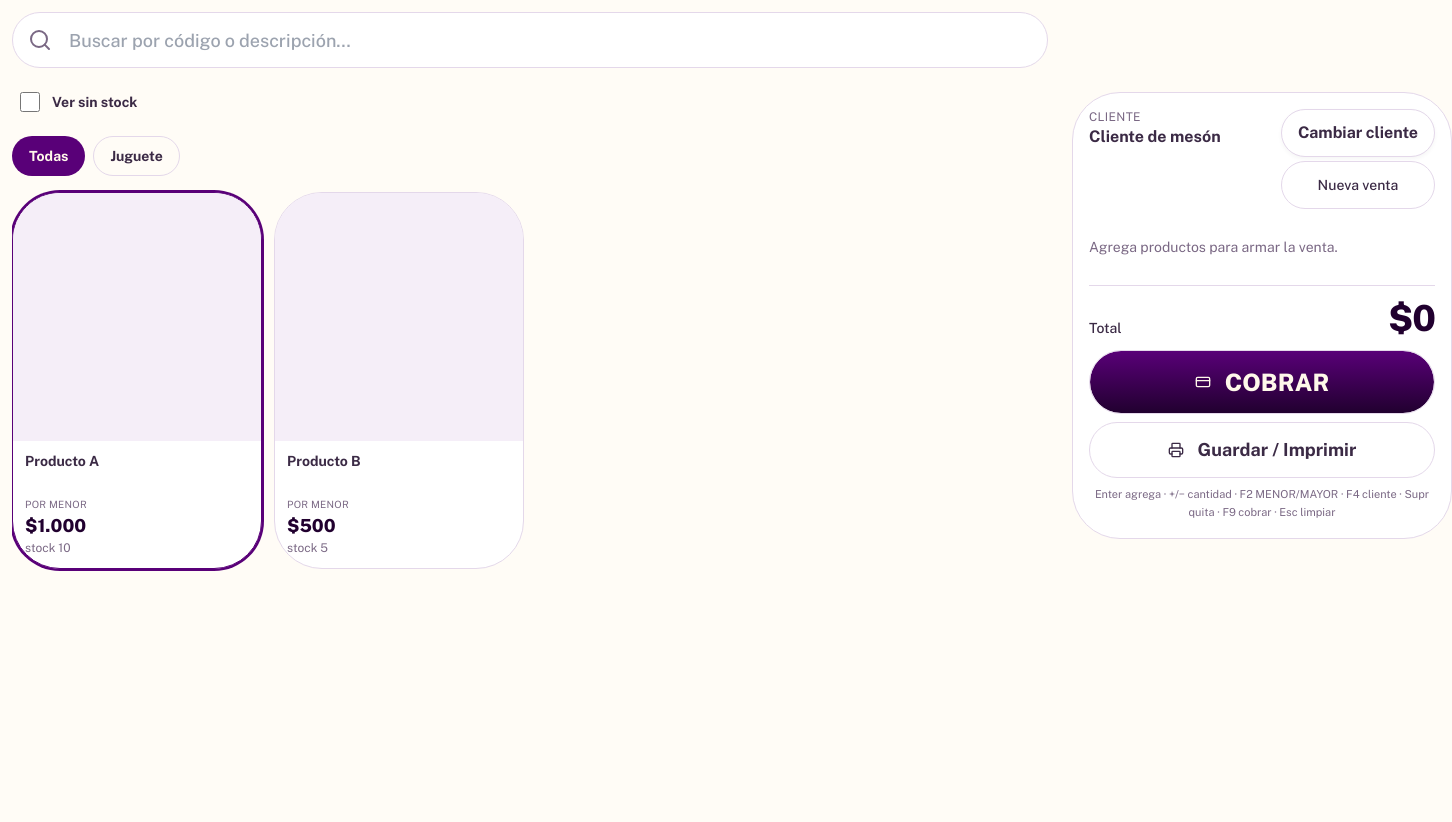
Scenario: POS pos2 — flujo con mouse › buscar → agregar → +1 → MAYOR → total correcto
The width and height of the screenshot is (1452, 822).
Click the button with test id "pos-producto-GL1" at x=137, y=380, box x1=12 y1=192 x2=262 y2=569
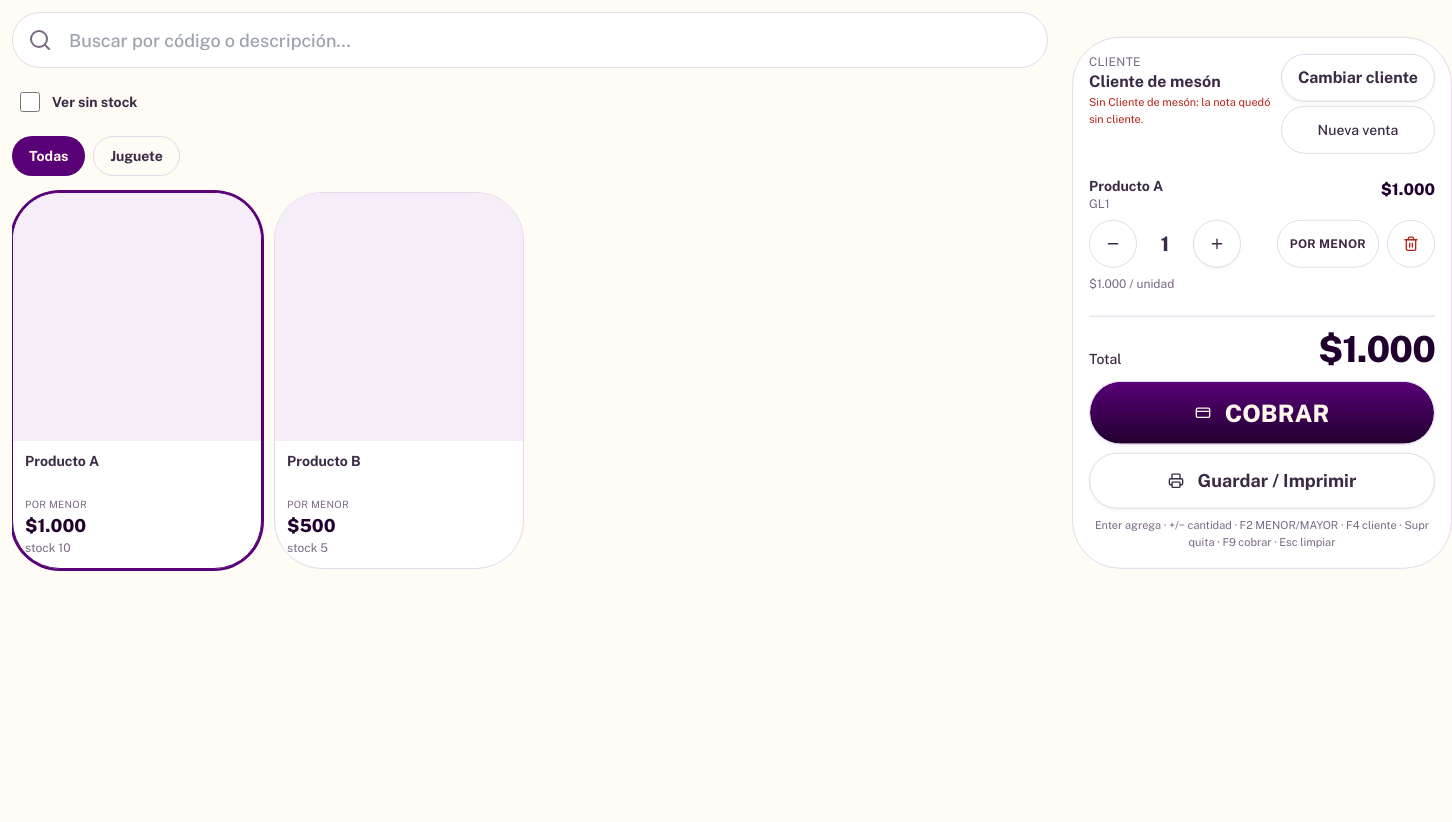
expect the text with test id "pos-cantidad-GL1" reads "1": met, box x1=1161 y1=231 x2=1169 y2=255
expect the text with test id "pos-total" shows "1.000": met, box x1=1318 y1=327 x2=1435 y2=369
Click the button named "Agregar una unidad de Producto A" at x=1217, y=243, box x1=1193 y1=219 x2=1241 y2=267
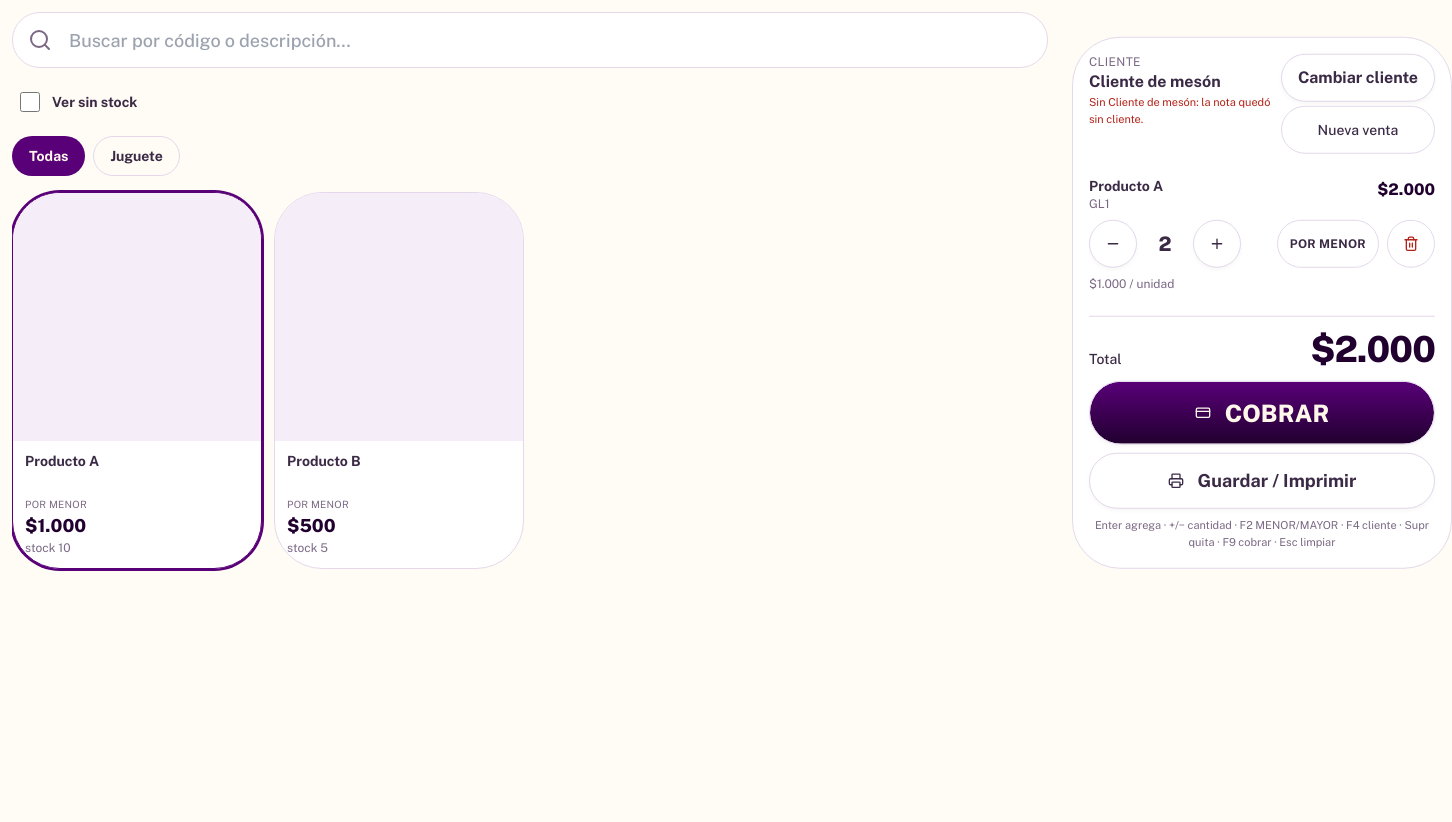
expect the text with test id "pos-cantidad-GL1" reads "2": met, box x1=1158 y1=231 x2=1172 y2=255
expect the text with test id "pos-total" shows "2.000": met, box x1=1310 y1=327 x2=1435 y2=369
Click the button "POR MENOR" at x=1328, y=243, box x1=1277 y1=219 x2=1379 y2=267
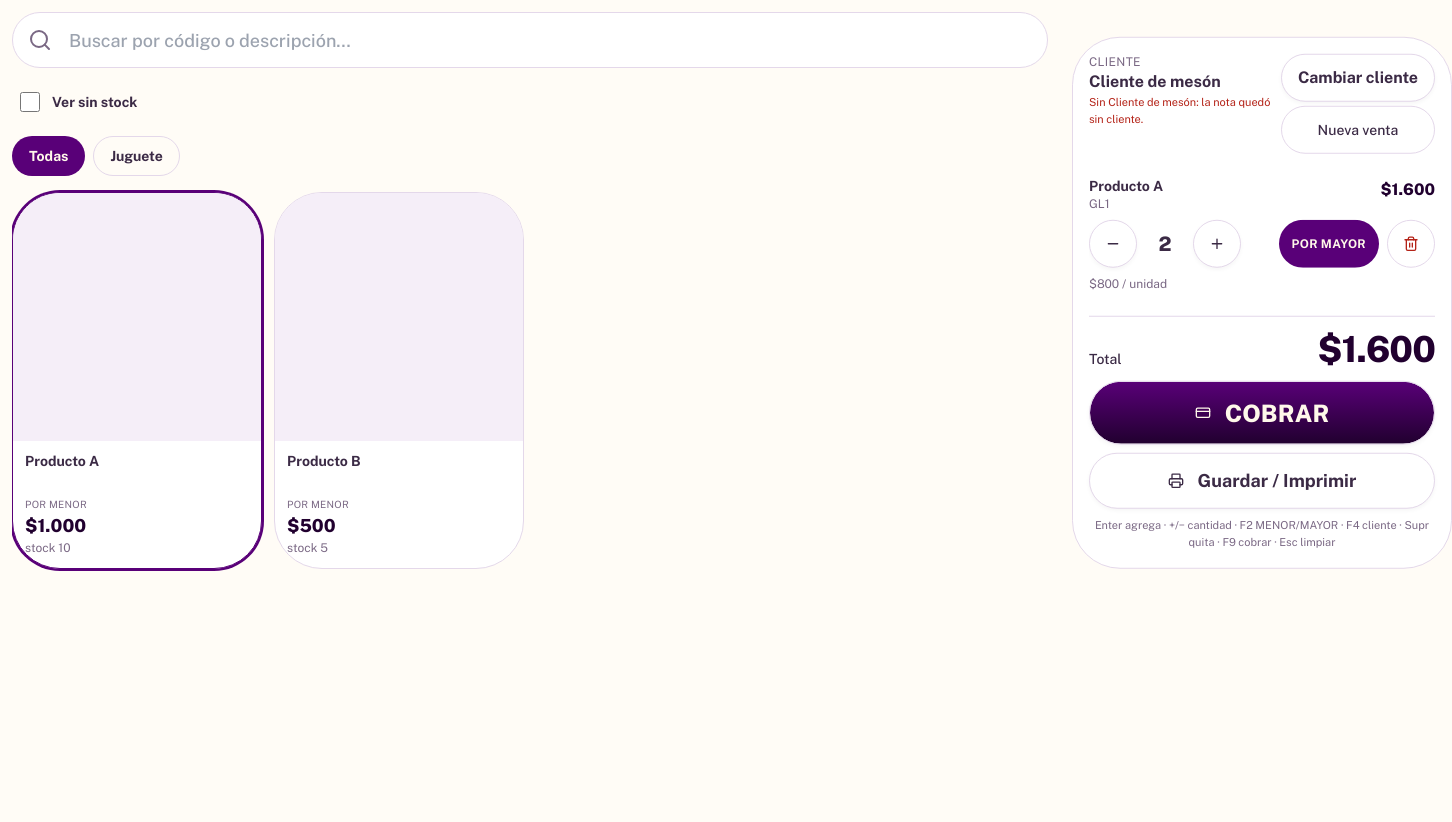
expect the button "POR MAYOR" is shown: met, box x1=1279 y1=219 x2=1379 y2=267
expect the text with test id "pos-total" shows "1.600": met, box x1=1318 y1=327 x2=1435 y2=369
